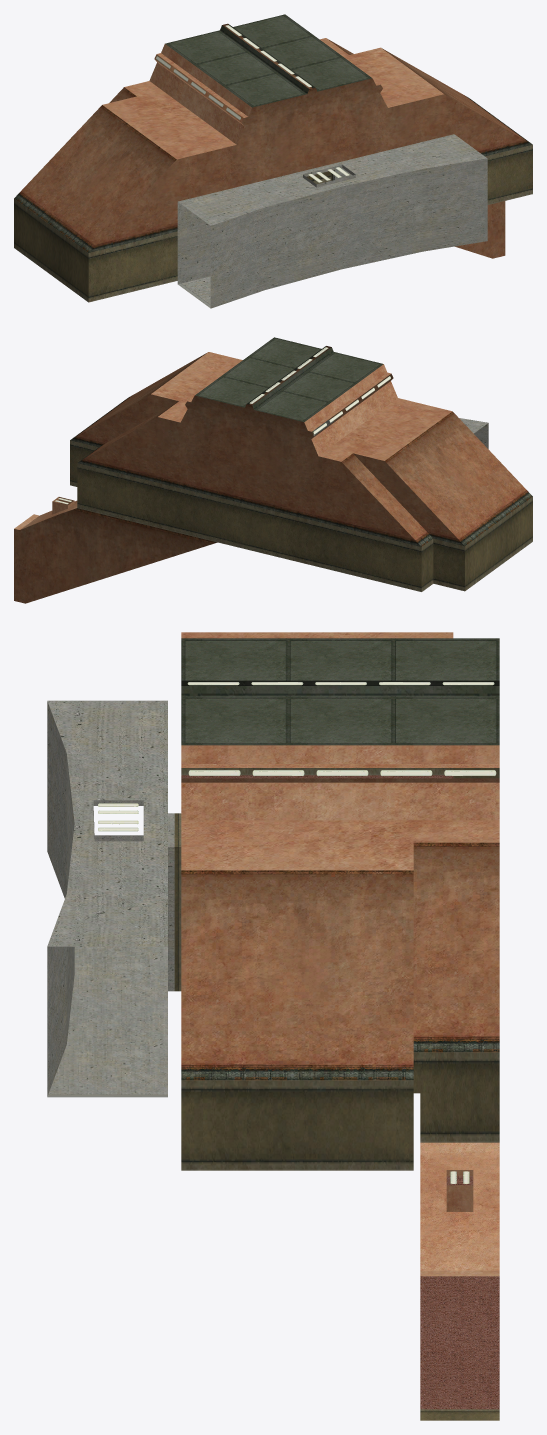
The model's file is ply_corl_theater_s01_r1_backstage_mesh_r1_l0.fbx.
3 views of the same model, one above another, from view 1: azimuth 30°, elevation 25°; view 2: azimuth 150°, elevation 25°; view 3: azimuth 270°, elevation 25° (orthographic). The views are drawn at different scales.
Visible parts, largest first — view 1: mesh_node; view 2: mesh_node; view 3: mesh_node.
Part boxes in pixels (<box>): mesh_node: <box>14,14,532,308</box>; mesh_node: <box>14,337,532,603</box>; mesh_node: <box>47,632,499,1420</box>.
Bounding box in the file's own units: 19.12 × 10.55 × 8.53.
